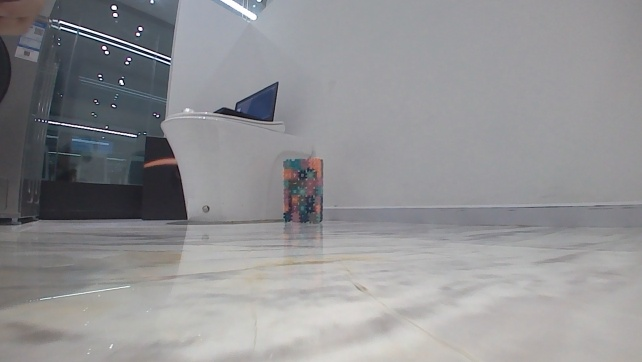plastic_toy: (280, 156, 324, 224)
toilet: (160, 109, 314, 224)
